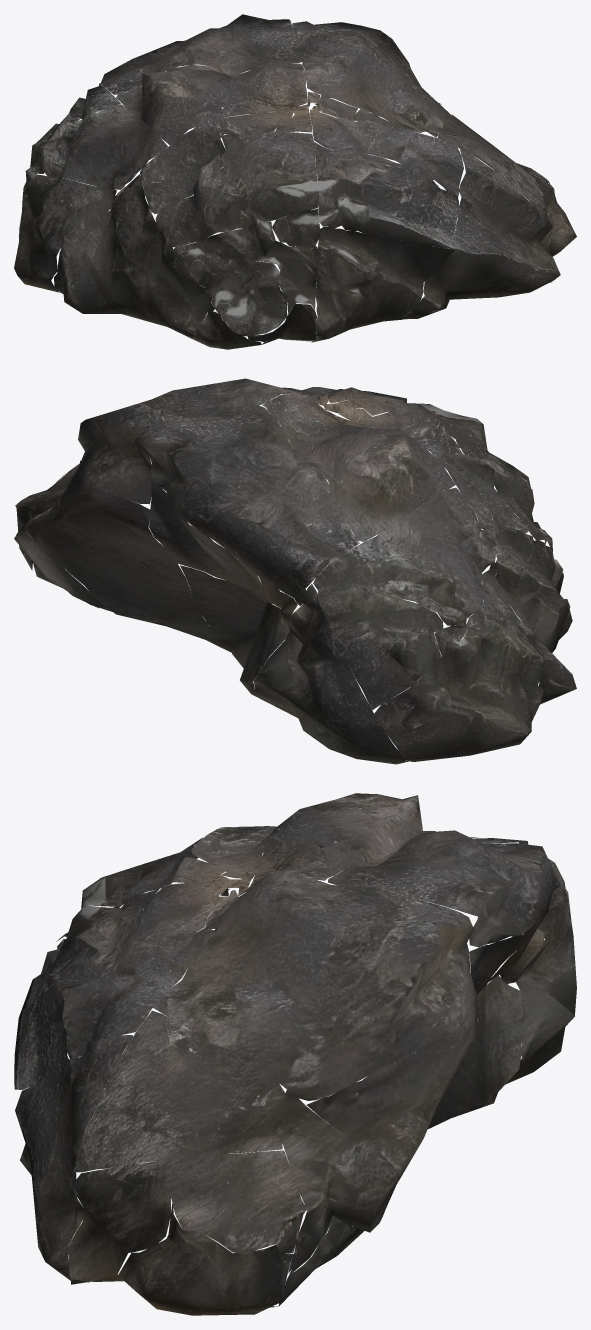
The model's file is rock-b.glb.
3 views of the same model, one above another, from view 1: azimuth 30°, elevation 25°; view 2: azimuth 150°, elevation 25°; view 3: azimuth 270°, elevation 25° (orthographic). The views are drawn at different scales.
Parts seen in each view (by area): view 1: Supplied rock-b; view 2: Supplied rock-b; view 3: Supplied rock-b.
Boxes of the visible parts, bbox=[...] form: Supplied rock-b: bbox=[14, 14, 576, 349]; Supplied rock-b: bbox=[14, 378, 576, 764]; Supplied rock-b: bbox=[14, 793, 576, 1315].
Bounding box in the file's own units: 1 × 0.4652 × 0.703.
Materials: 1 (1 with a texture image).
